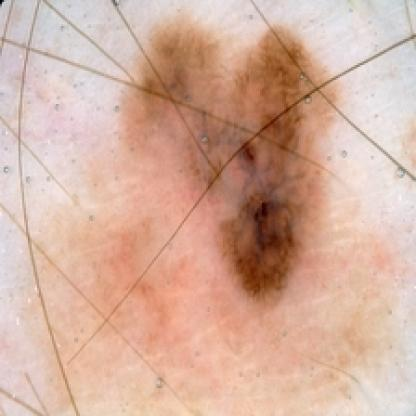Skin_Cancer-Malignant: (137, 10, 340, 307)
